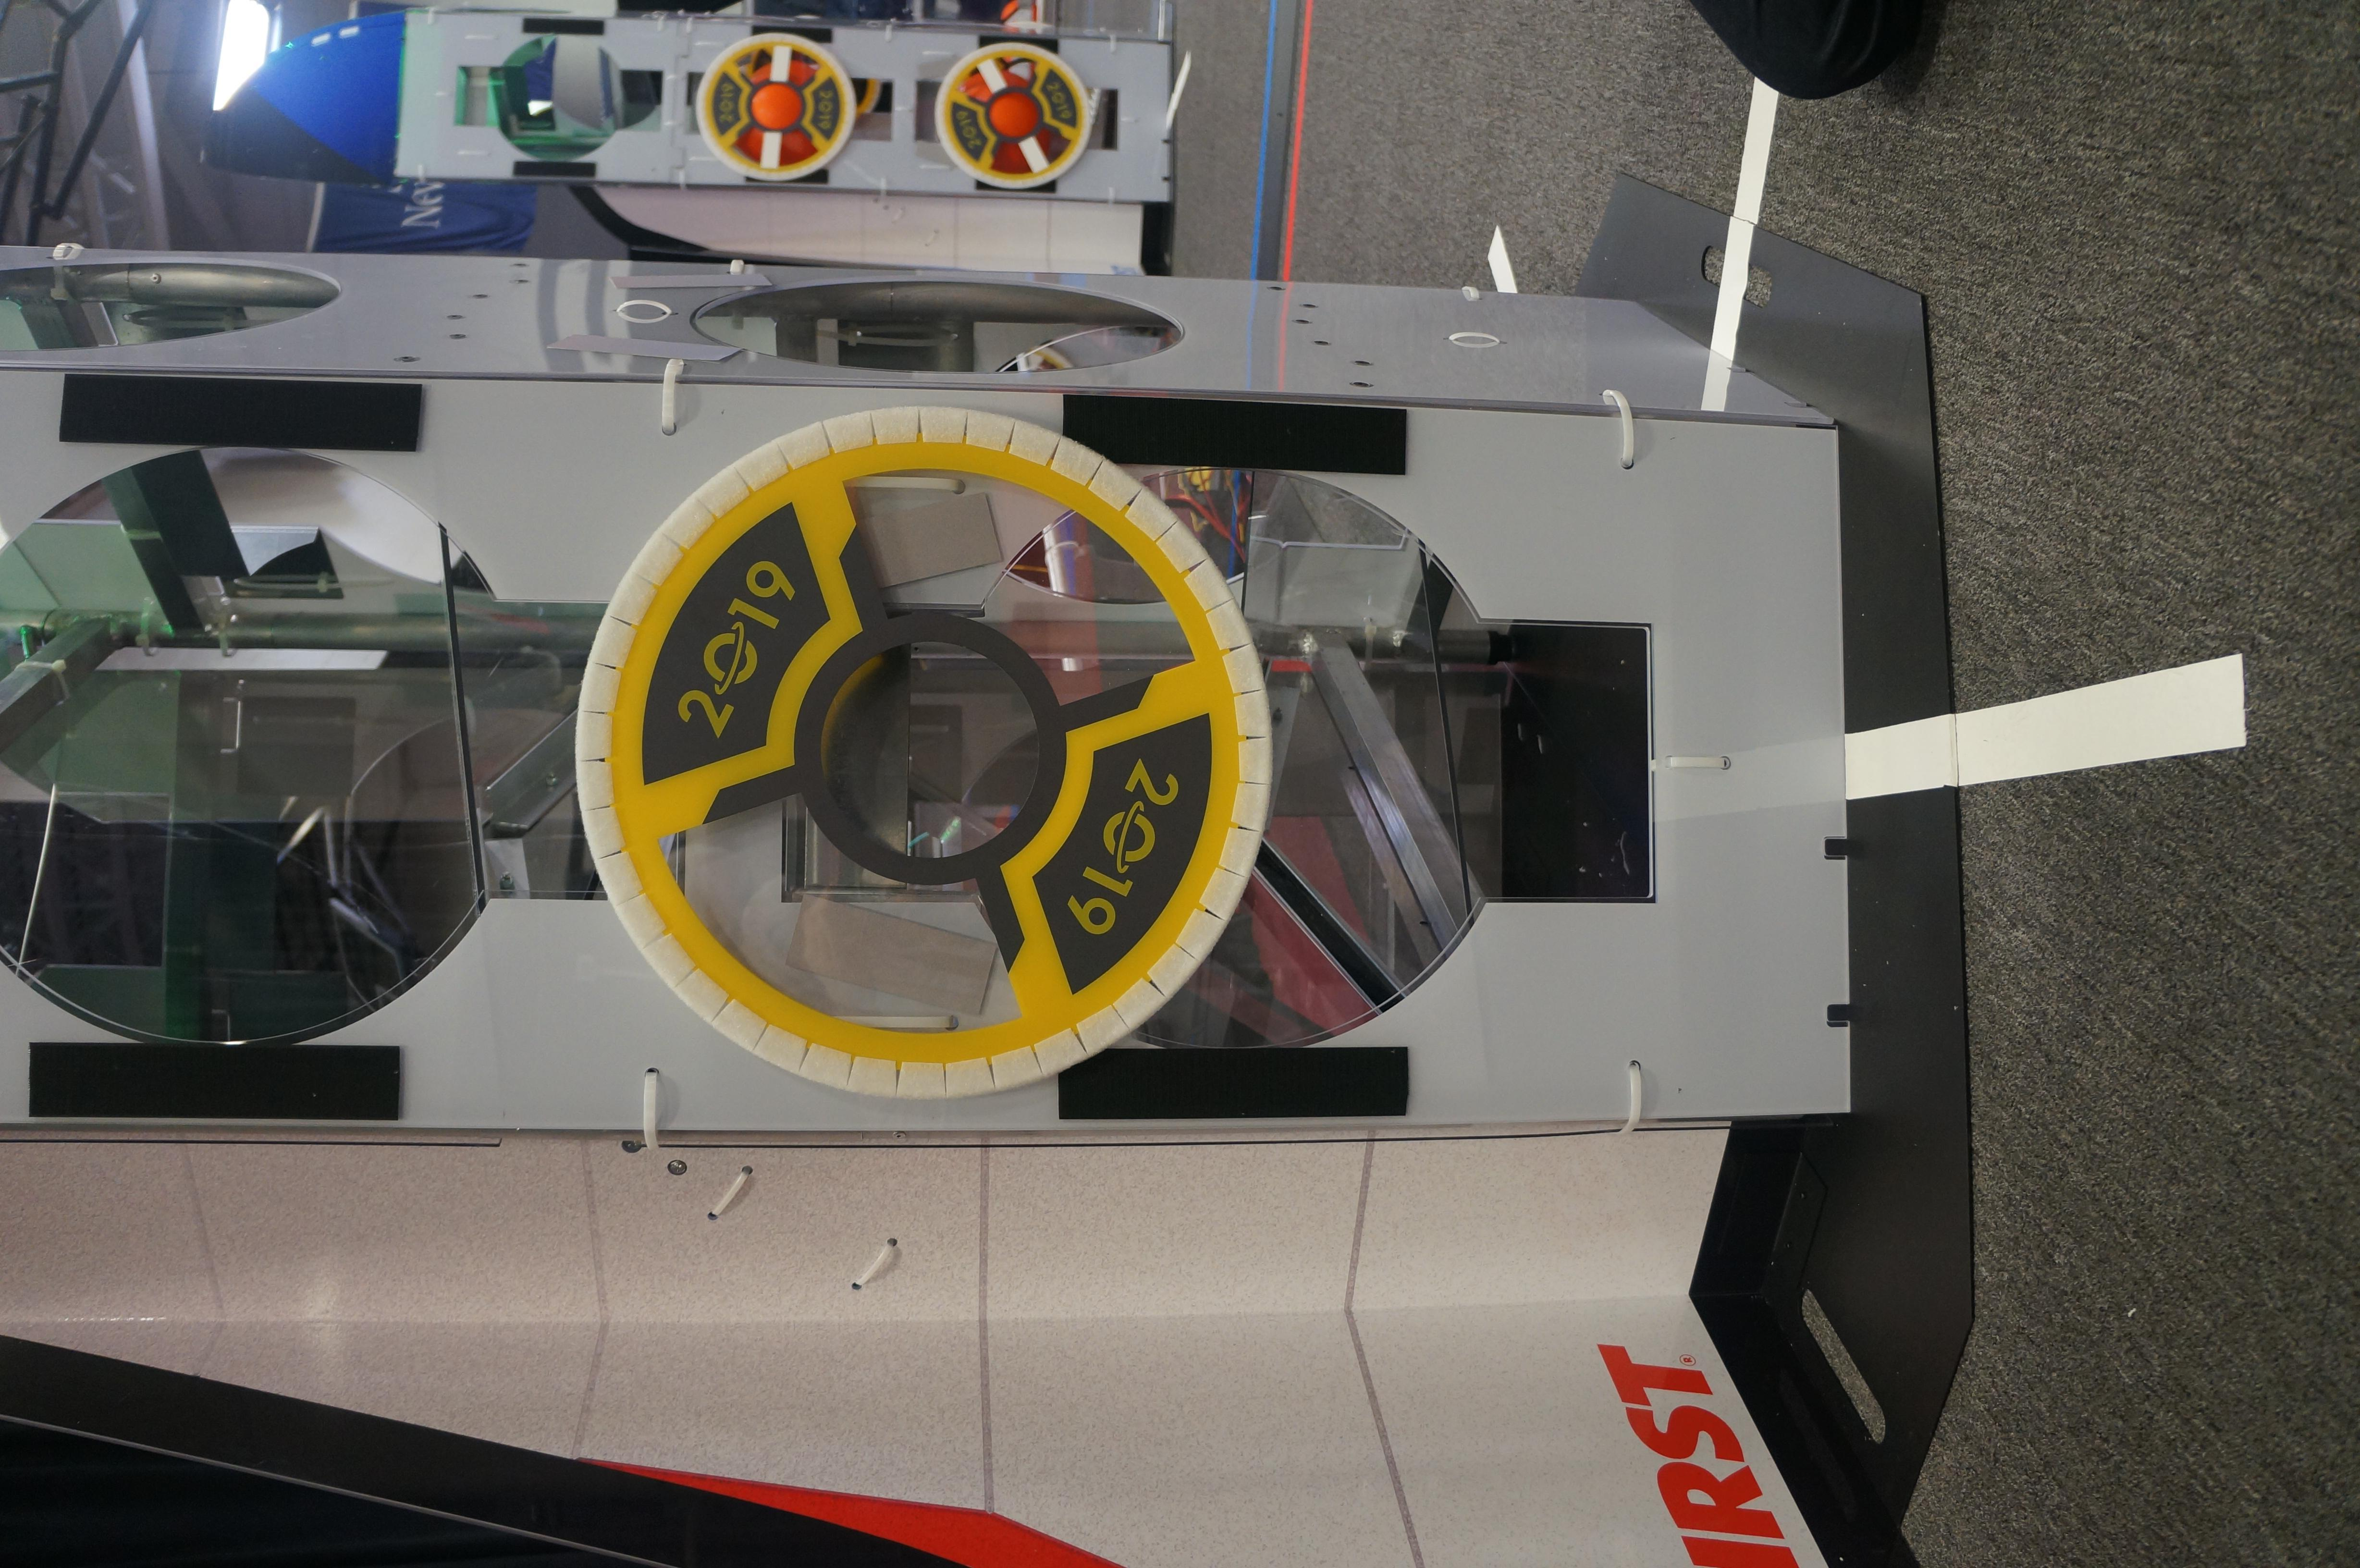Ball: (964, 66, 1057, 173), (731, 61, 826, 159)
Hatch: (576, 402, 1272, 1101), (696, 33, 855, 178), (934, 44, 1093, 189)
Tape: (789, 889, 999, 1017), (855, 492, 1008, 595), (544, 331, 738, 360), (609, 268, 773, 290)
